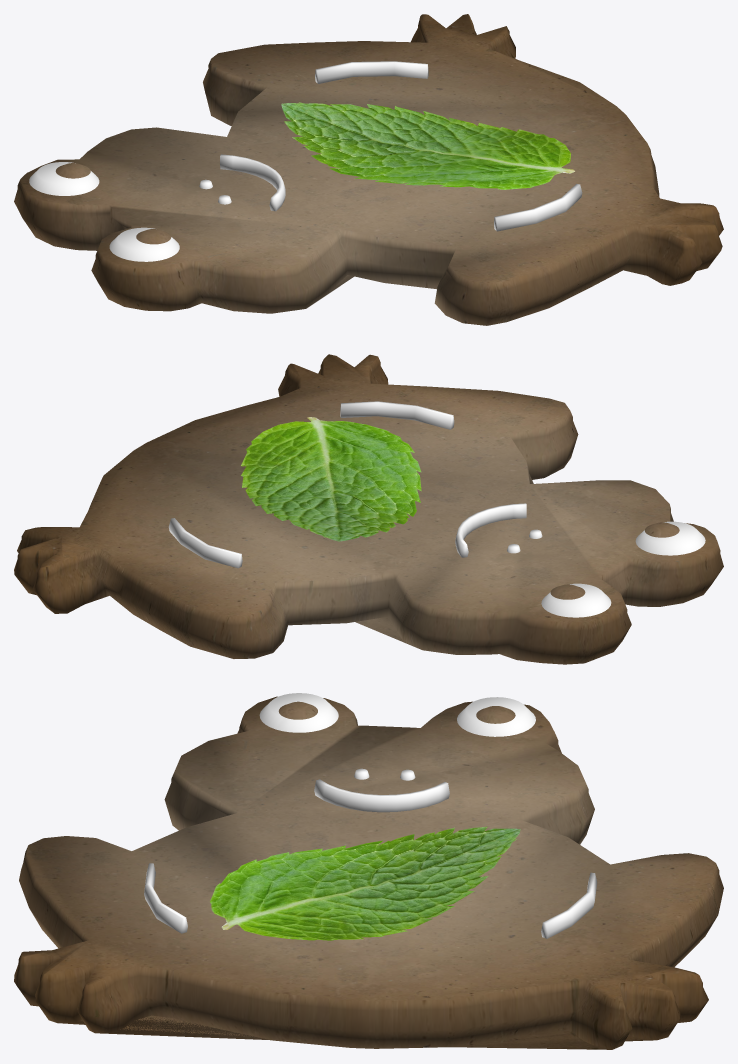
Rendered from FMC_Cookie.fbx.
3 renders of one model, top to bottom at view 1: azimuth 30°, elevation 25°; view 2: azimuth 150°, elevation 25°; view 3: azimuth 270°, elevation 25°, orthographic. The views are drawn at different scales.
Visible parts, largest first — view 1: Cookie; view 2: Cookie; view 3: Cookie.
Part boxes in pixels (bbox=[...]): Cookie: bbox=[14, 14, 723, 325]; Cookie: bbox=[14, 354, 723, 664]; Cookie: bbox=[14, 693, 723, 1049].
Bounding box in the file's own units: 14.56 × 1.68 × 14.18.
